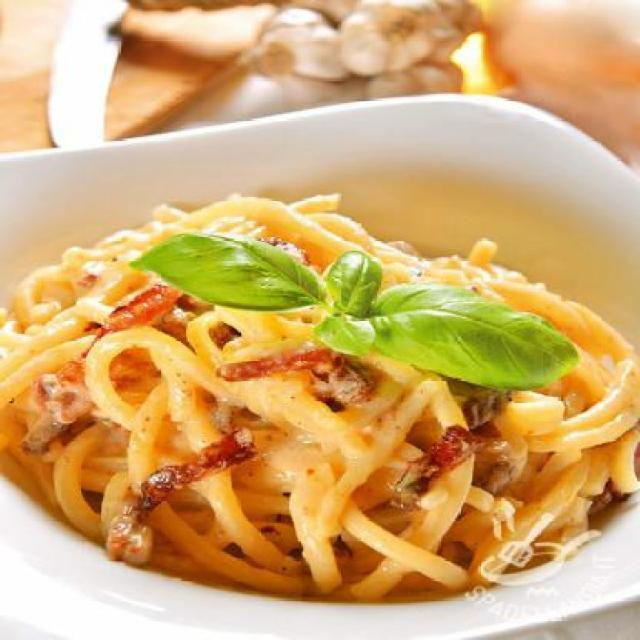Pasta with carbonara sauce: (24, 175, 628, 583)
